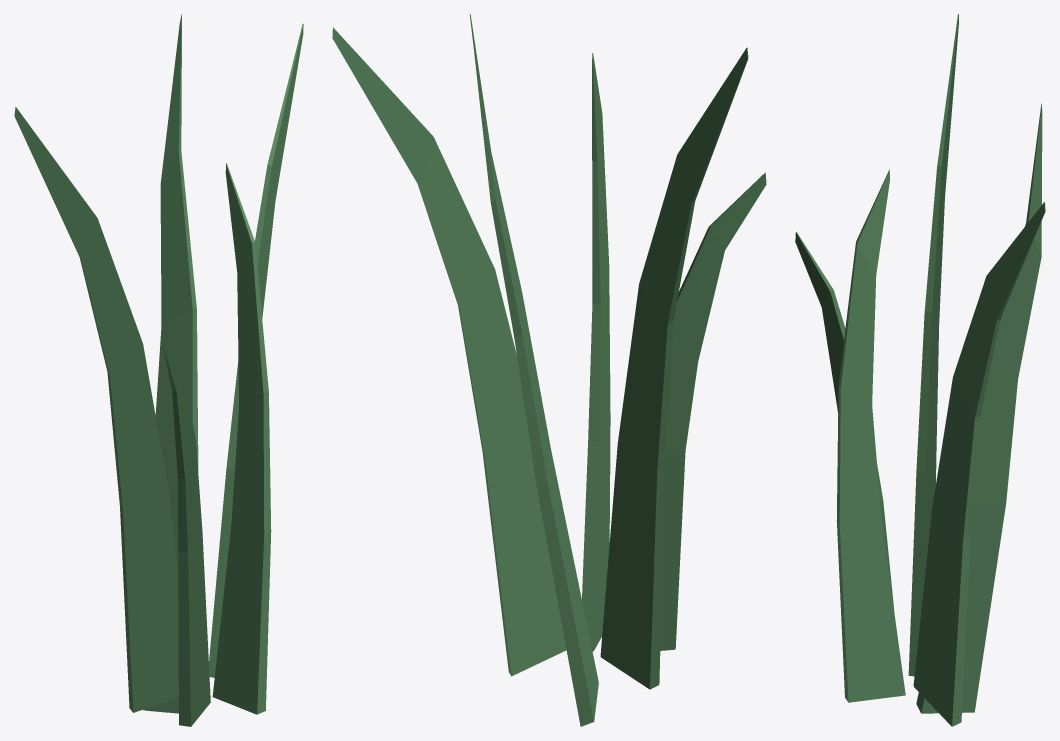
Rendered from PlainsGrass(3).fbx.
The picture shows the model from 3 angles, left to right: view 1: azimuth 30°, elevation 25°; view 2: azimuth 150°, elevation 25°; view 3: azimuth 270°, elevation 25°; orthographic projection. The views are drawn at different scales.
Parts seen in each view (by area): view 1: PlainsGrass(3); view 2: PlainsGrass(3); view 3: PlainsGrass(3).
Part boxes in pixels (<box>): PlainsGrass(3): <box>14,14,303,726</box>; PlainsGrass(3): <box>332,14,766,726</box>; PlainsGrass(3): <box>795,14,1045,726</box>.
Size of the model in its own units: 0.6987 by 1.31 by 0.4655.
